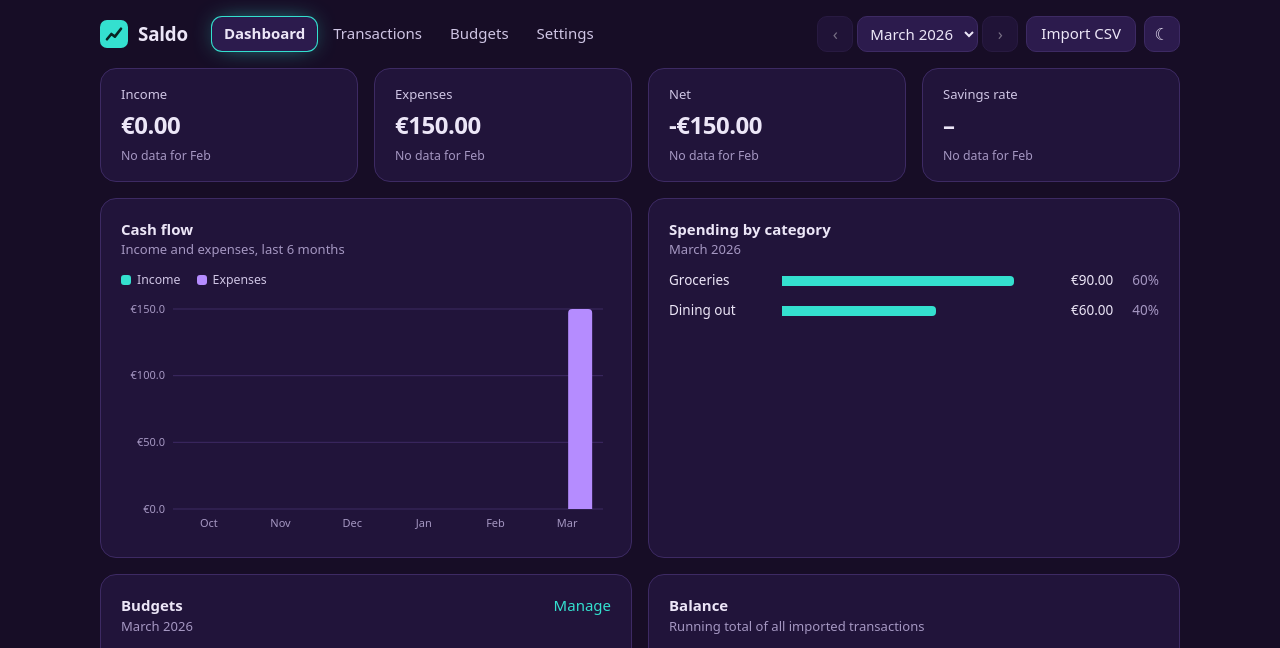
it: shows progress, status and totals for the month
This screenshot has width=1280, height=648.
Click the button "Budgets" at point(479, 34), box [438,17,520,51]
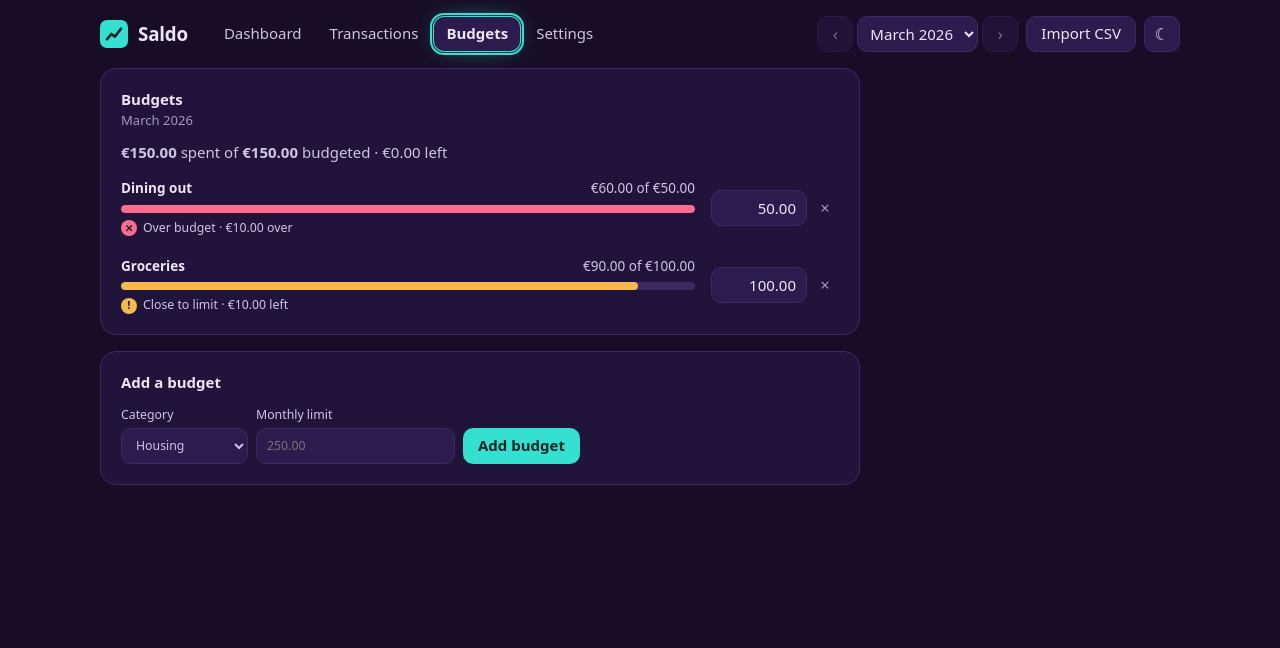
Expected: the text "✕ Over budget · €10.00 over" is shown, [121,219,293,236]
Expected: the message shows "€150.00 spent of €150.00 budgeted", [121,142,447,162]
